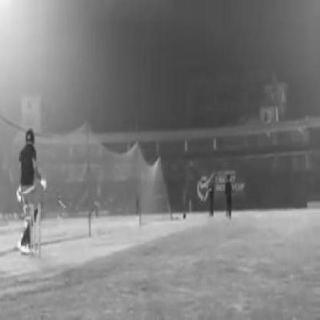other: (50, 224, 158, 254)
